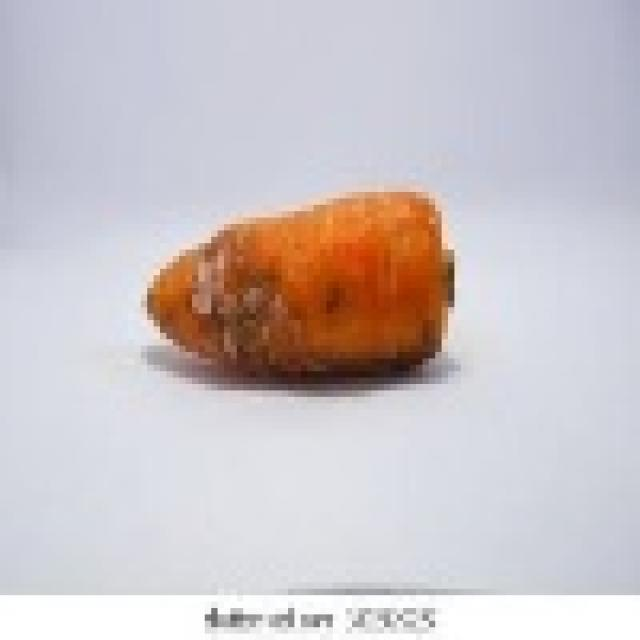Stale_Carrot: (145, 196, 441, 390)
